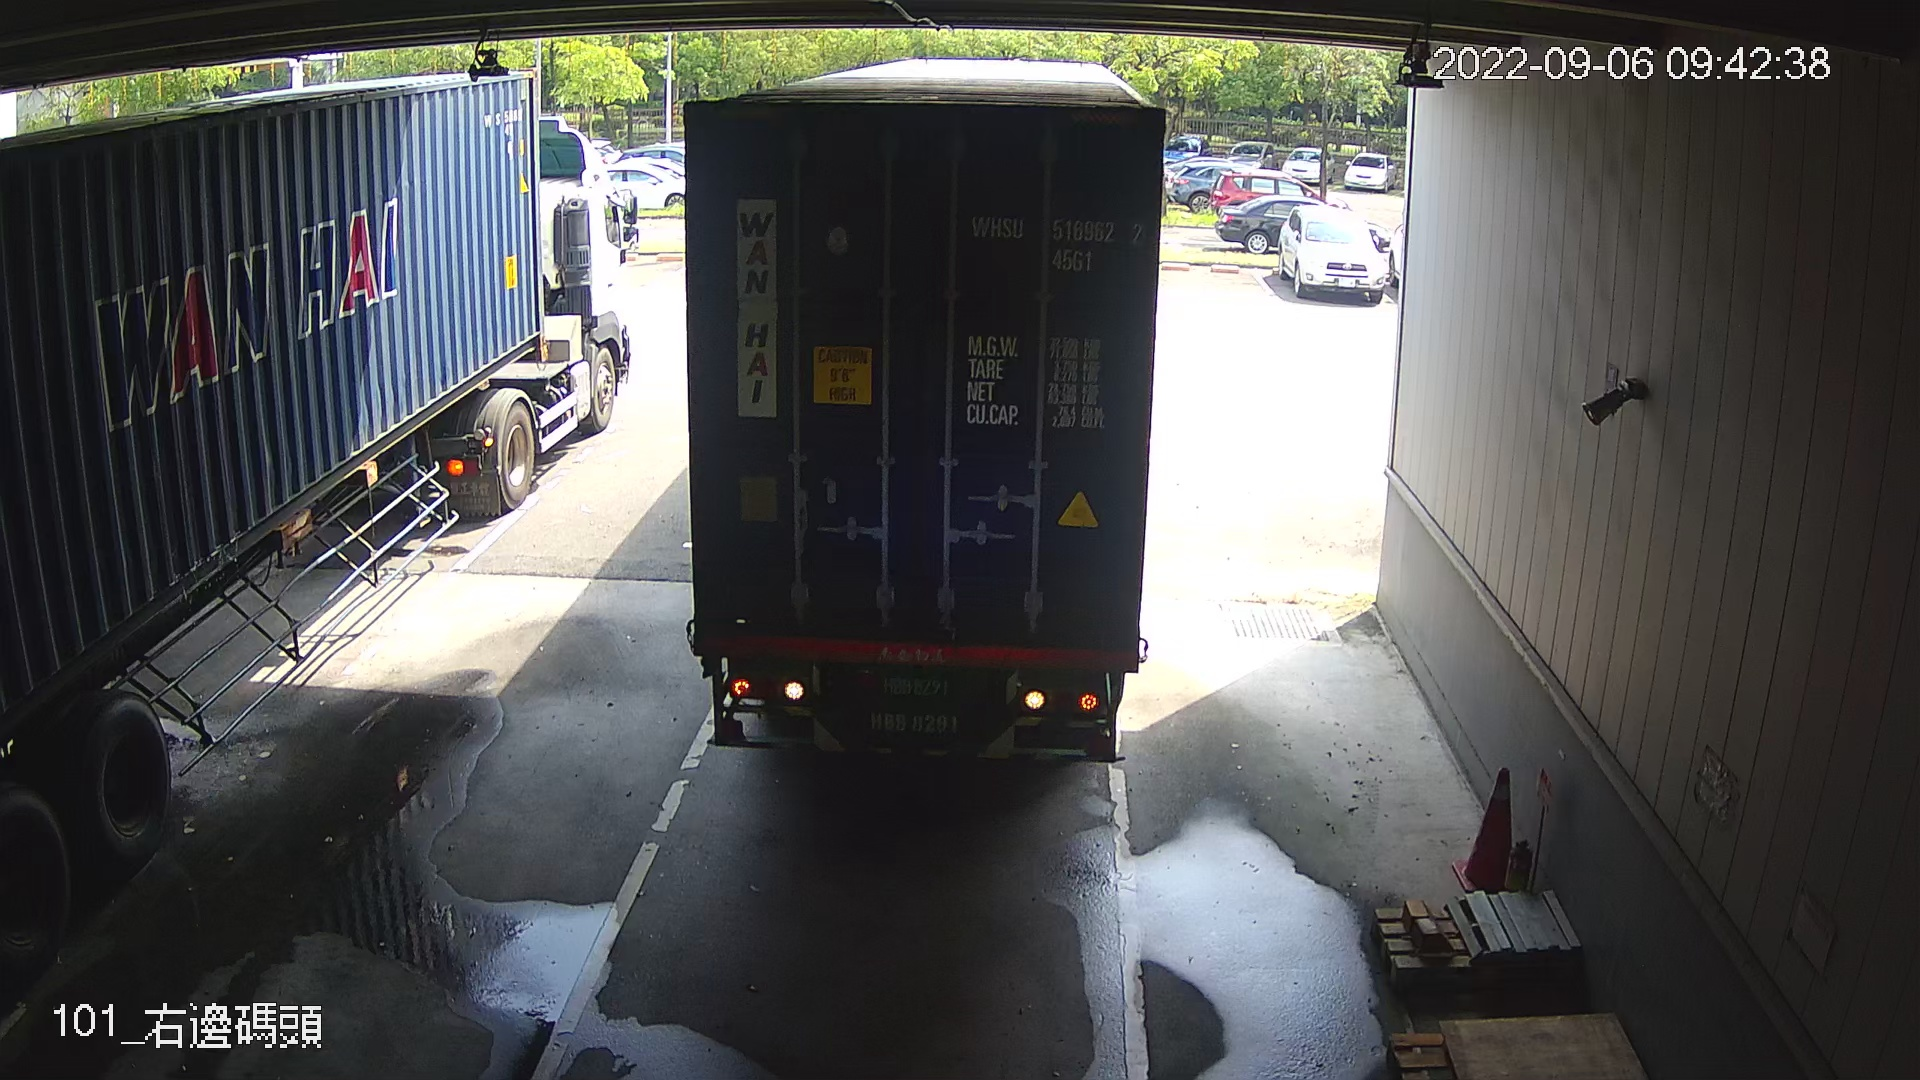container: (964, 204, 1150, 280)
